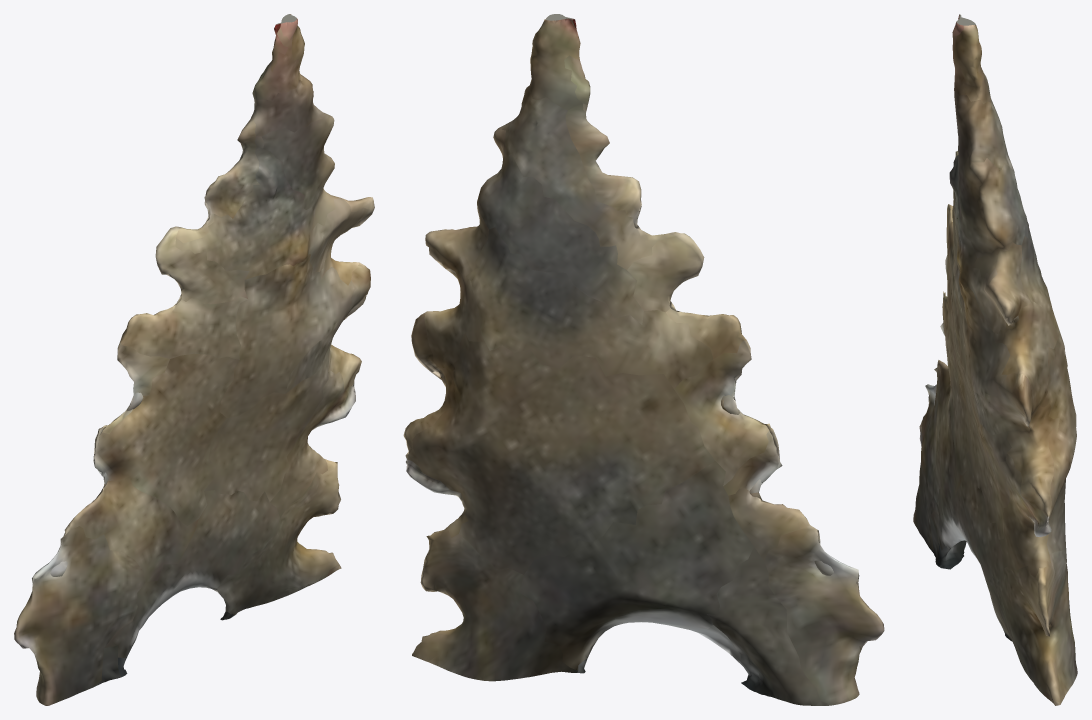
3 views of the same model, side by side, from view 1: azimuth 30°, elevation 25°; view 2: azimuth 150°, elevation 25°; view 3: azimuth 270°, elevation 25° (orthographic). The views are drawn at different scales.
Visible parts, largest first — view 1: 3DModel; view 2: 3DModel; view 3: 3DModel.
Boxes of the visible parts, left/top/right/bottom form: 3DModel: left=14, top=14, right=374, bottom=705; 3DModel: left=403, top=14, right=884, bottom=705; 3DModel: left=913, top=14, right=1077, bottom=705.
Size of the model in its own units: 0.1454 by 0.2069 by 0.0486.
1 material, 1 textured.
